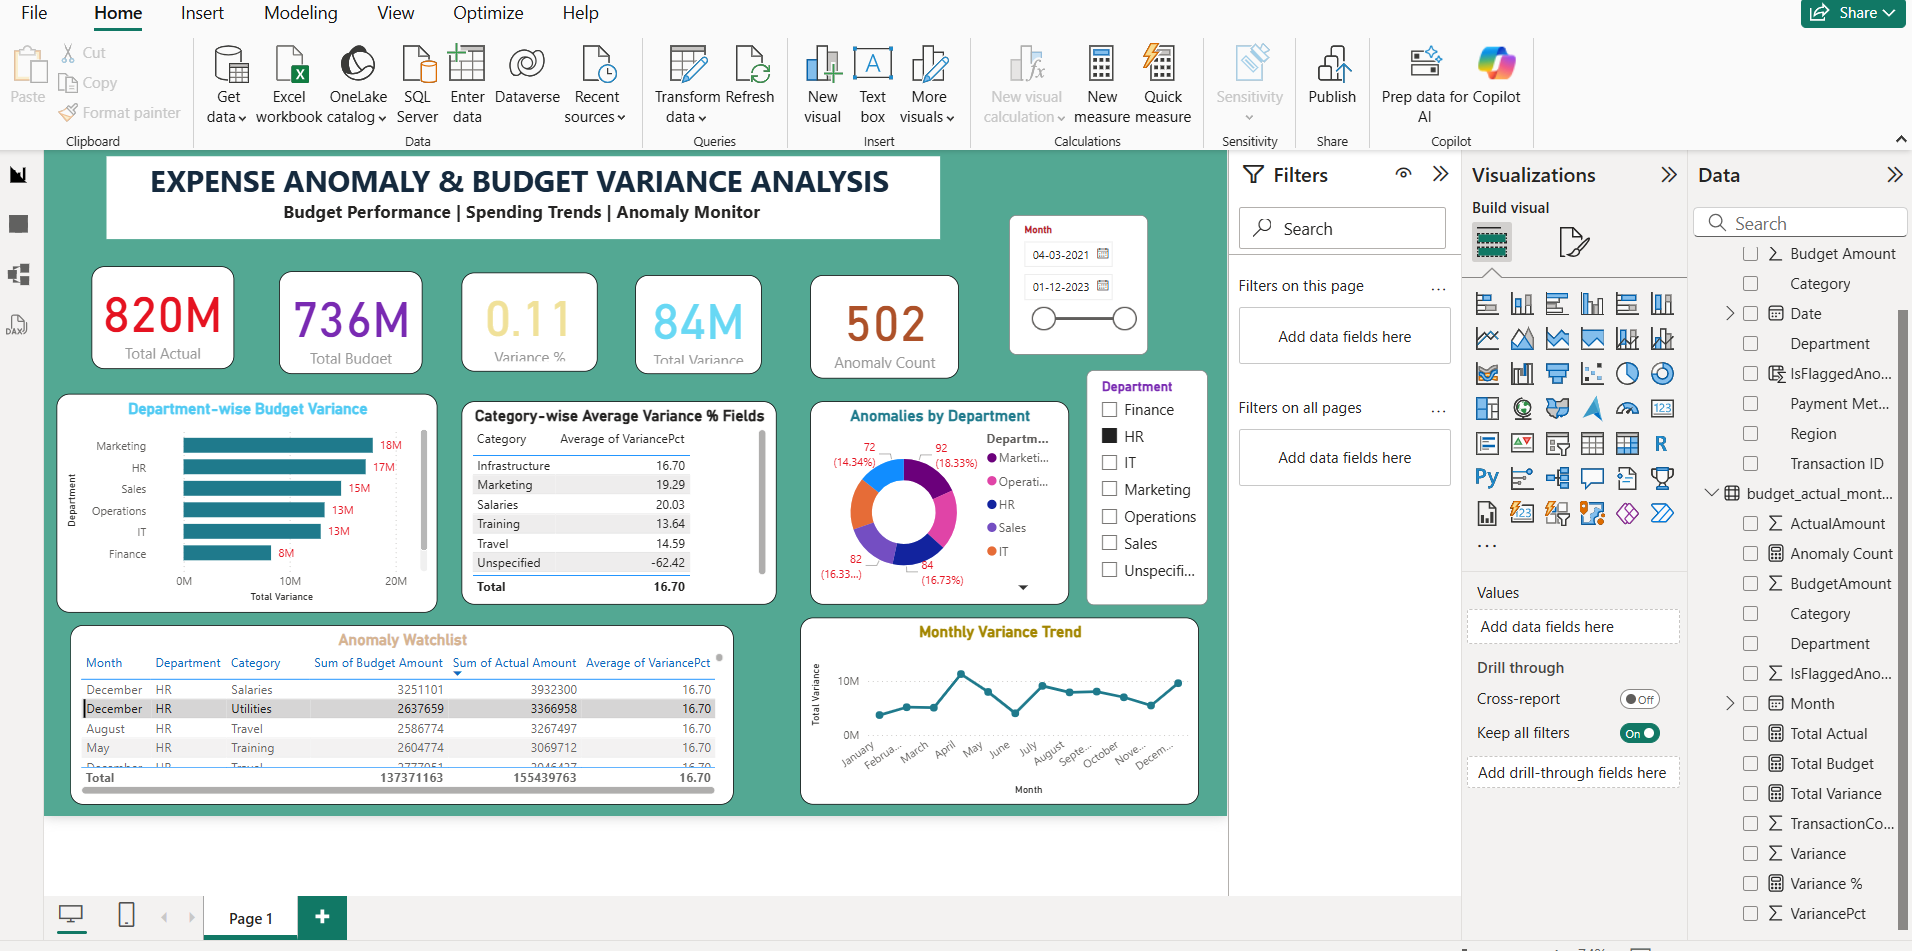

This screenshot's page, from the dashboard's own definition file:
{"tool":"powerbi","page":{"name":"Page 1","canvas":[1280,720],"ordinal":0},"visuals":[{"type":"card","fields":{"Values":["budget_actual_monthly_agg.Total Actual"]},"box":[51.4,125.7,154.1,110.9],"z":0},{"type":"card","fields":{"Values":["budget_actual_monthly_agg.Total Budget"]},"box":[254.2,131.1,155.5,110.9],"z":1000},{"type":"card","fields":{"Values":["budget_actual_monthly_agg.Total Variance"]},"box":[639.5,135.2,136.5,106.8],"z":2000},{"type":"card","fields":{"Values":["budget_actual_monthly_agg.Variance %"]},"box":[451.5,132.5,147.4,106.8],"z":3000},{"type":"card","fields":{"Values":["budget_actual_monthly_agg.Anomaly Count"]},"box":[828.7,135.2,160.9,112.2],"z":4000},{"type":"barChart","title":"Department-wise Budget Variance","fields":{"Category":["budget_actual_monthly_agg.Department"],"Y":["budget_actual_monthly_agg.Total Variance"]},"box":[13.5,263.6,412.3,236.6],"z":5000},{"type":"tableEx","title":"Category-wise Average Variance %  Fields","fields":{"Values":["budget_actual_monthly_agg.Category","Avg(budget_actual_monthly_agg.VariancePct)"]},"box":[451.5,271.7,340.7,220.4],"z":6000},{"type":"lineChart","title":"Monthly Variance Trend","fields":{"Category":["budget_actual_monthly_agg.Month.Variation.Date Hierarchy.Month"],"Y":["budget_actual_monthly_agg.Total Variance"]},"box":[817.9,505.6,431.3,202.8],"z":7000},{"type":"donutChart","title":"Anomalies by Department","fields":{"Category":["budget_actual_monthly_agg.Department"],"Y":["budget_actual_monthly_agg.Anomaly Count"]},"box":[828.7,271.7,279.8,220.4],"z":8000},{"type":"tableEx","title":"Anomaly Watchlist","fields":{"Values":["budget_actual_cleaned.Date.Variation.Date Hierarchy.Month","budget_actual_cleaned.Department","budget_actual_cleaned.Category","Sum(budget_actual_cleaned.Budget Amount)","Sum(budget_actual_cleaned.Actual Amount)","Avg(budget_actual_monthly_agg.VariancePct)"]},"box":[28.4,513.7,717.9,194.7],"z":9000},{"type":"slicer","fields":{"Values":["budget_actual_cleaned.Department"]},"box":[1127.5,237.9,131.1,254.2],"z":9001},{"type":"slicer","fields":{"Values":["budget_actual_monthly_agg.Month"]},"box":[1043.7,70.3,150.1,151.4],"z":9002},{"type":"textbox","box":[67.6,6.8,901.7,89.2],"z":9003}]}

Visuals, with their boxes on the page's 1280x720 design canvas (x1, y1, x2, y2). These are canvas units, not pixel positions in the 1912x951 screenshot, which may show the page scaled, cropped or inside an application window:
card - budget_actual_monthly_agg.Total Actual: rect(51, 126, 206, 237)
card - budget_actual_monthly_agg.Total Budget: rect(254, 131, 410, 242)
card - budget_actual_monthly_agg.Total Variance: rect(640, 135, 776, 242)
card - budget_actual_monthly_agg.Variance %: rect(452, 132, 599, 239)
card - budget_actual_monthly_agg.Anomaly Count: rect(829, 135, 990, 247)
"Department-wise Budget Variance" barChart: rect(14, 264, 426, 500)
"Category-wise Average Variance %  Fields" tableEx: rect(452, 272, 792, 492)
"Monthly Variance Trend" lineChart: rect(818, 506, 1249, 708)
"Anomalies by Department" donutChart: rect(829, 272, 1108, 492)
"Anomaly Watchlist" tableEx: rect(28, 514, 746, 708)
slicer - budget_actual_cleaned.Department: rect(1128, 238, 1259, 492)
slicer - budget_actual_monthly_agg.Month: rect(1044, 70, 1194, 222)
textbox: rect(68, 7, 969, 96)
